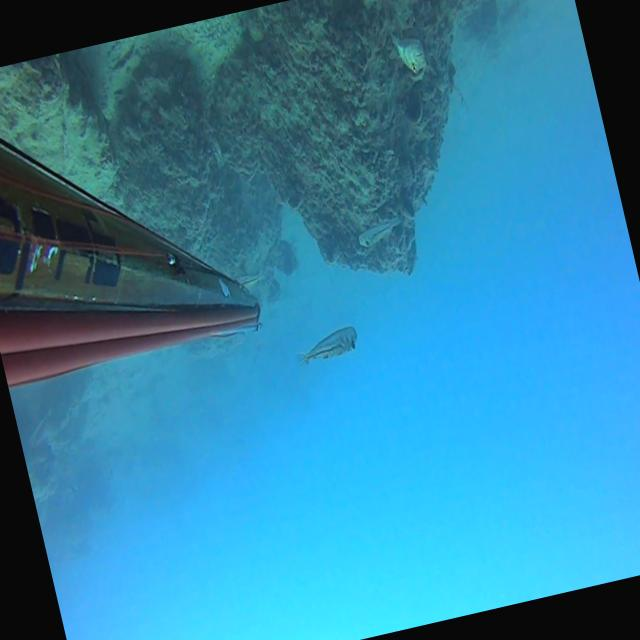Balon Baligi: (291, 324, 361, 372), (354, 212, 407, 248), (389, 26, 427, 76), (22, 408, 59, 448), (234, 268, 264, 288)
